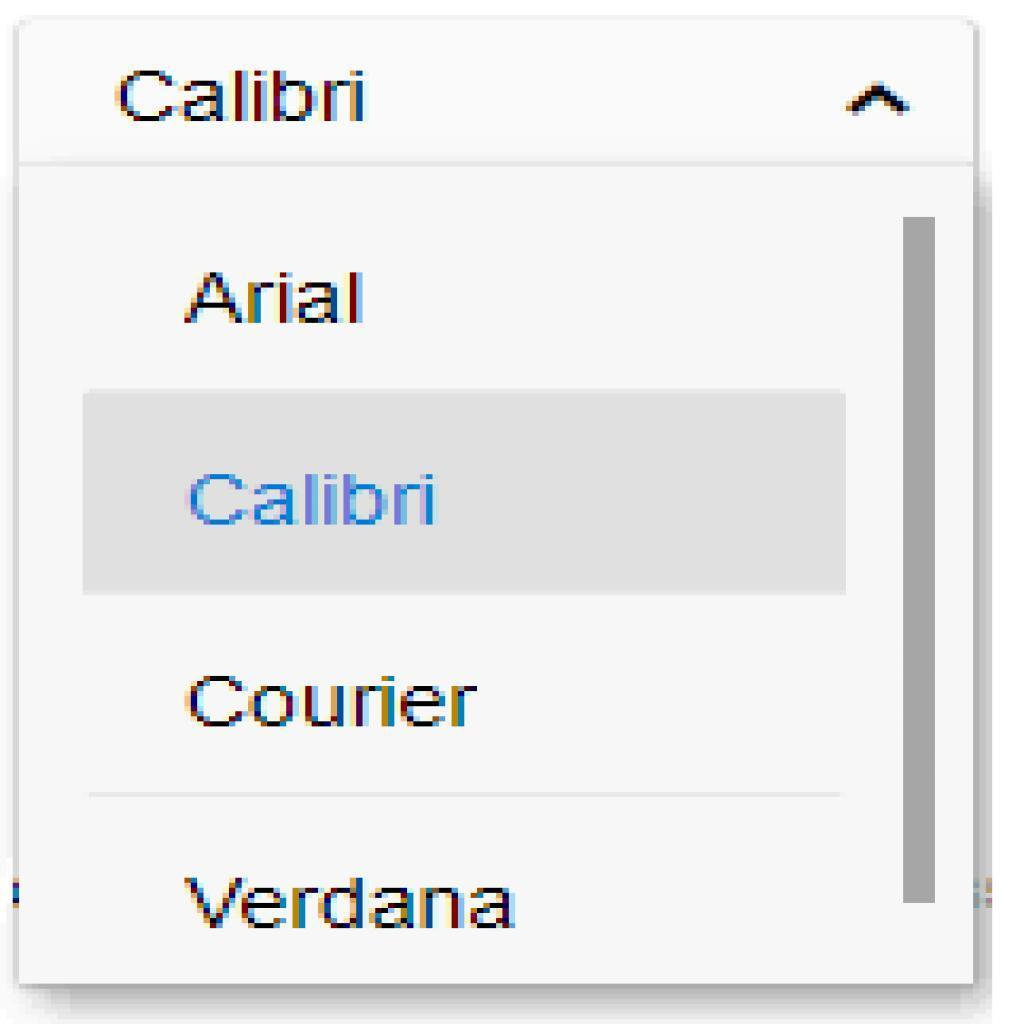dropdown: (15, 34, 947, 165)
